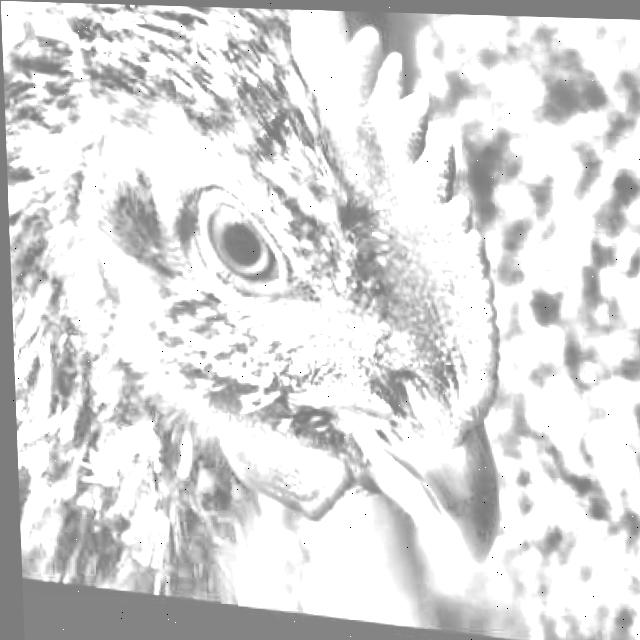Healthy: (165, 171, 295, 306)
